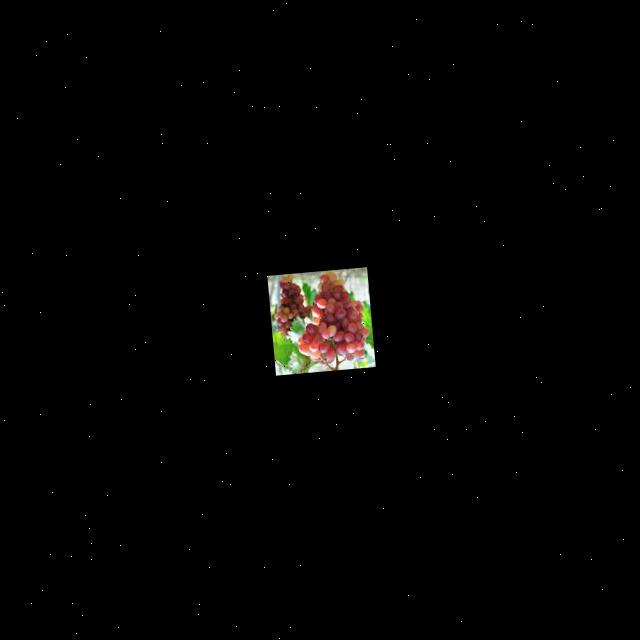grape: (290, 268, 370, 366)
